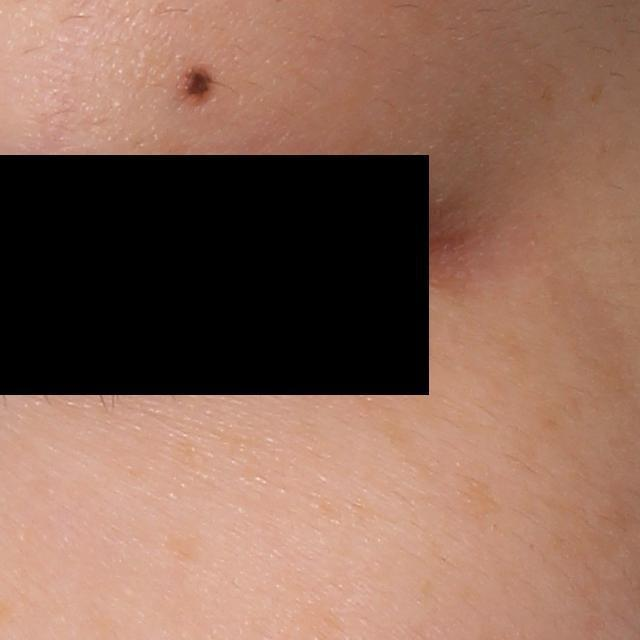melasma: (316, 370, 429, 464), (450, 470, 504, 520), (155, 523, 203, 566), (589, 82, 602, 103)
